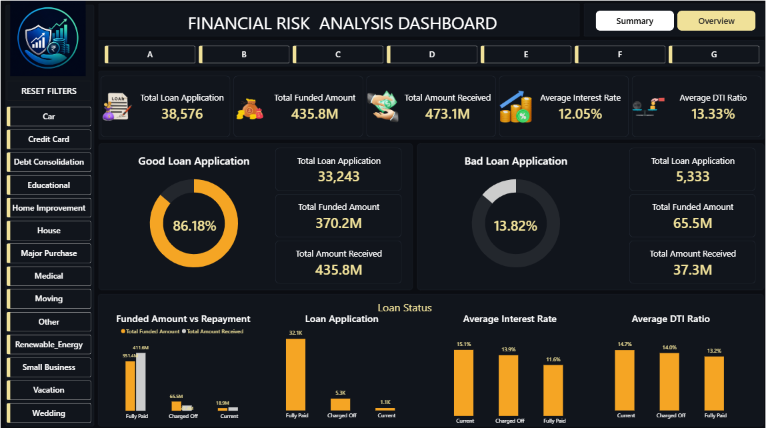

What the dashboard file says about the page in this screenshot:
{"tool":"powerbi","page":{"name":"Summary","canvas":[1920,1080],"ordinal":0},"visuals":[{"type":"cardVisual","fields":{"Data":["financial_loan.Total Loan Application","financial_loan.Total Funded Amount","financial_loan.Total Amount Received","financial_loan.Average Interest Rate","financial_loan.Average DTI Rate"]},"box":[250,187.8,1653.3,153.3],"z":0},{"type":"donutChart","title":"Good Loan Application","fields":{"Category":["financial_loan.Good_vs_Bad_Loan"],"Y":["financial_loan.Total Loan Application"]},"box":[272.9,368.6,421.4,342.9],"z":1000},{"type":"donutChart","title":"Bad Loan Application","fields":{"Category":["financial_loan.Good_vs_Bad_Loan"],"Y":["financial_loan.Total Loan Application"]},"box":[1077.1,368.6,421.4,342.9],"z":2000},{"type":"cardVisual","fields":{"Data":["financial_loan.Good Loan %"]},"box":[394.3,514.3,180,88.6],"z":3000},{"type":"cardVisual","fields":{"Data":["financial_loan.Bad Loan %"]},"box":[1197.1,514.3,180,88.6],"z":4000},{"type":"cardVisual","fields":{"Data":["financial_loan.Total Loan Application","financial_loan.Total Funded Amount","financial_loan.Total Amount Received"],"Rows":["financial_loan.Good_vs_Bad_Loan"]},"box":[651.4,368.6,350,342.9],"z":5000},{"type":"cardVisual","fields":{"Data":["financial_loan.Total Loan Application","financial_loan.Total Funded Amount","financial_loan.Total Amount Received"],"Rows":["financial_loan.Good_vs_Bad_Loan"]},"box":[1538.6,368.6,350,342.9],"z":6000},{"type":"clusteredColumnChart","title":"Funded Amount vs Repayment","fields":{"Category":["financial_loan.LOAN_STATUS"],"Y":["financial_loan.Total Funded Amount","financial_loan.Total Amount Received"]},"box":[250,761.4,412.9,305.7],"z":7000},{"type":"clusteredColumnChart","title":"Loan Application","fields":{"Category":["financial_loan.LOAN_STATUS"],"Y":["financial_loan.Total Loan Application"]},"box":[651.2,761.2,401.2,305],"z":8000},{"type":"textbox","box":[941.2,747.5,222.5,112.5],"z":9000},{"type":"clusteredColumnChart","title":"Average Interest Rate","fields":{"Category":["financial_loan.LOAN_STATUS"],"Y":["financial_loan.Average Interest Rate"]},"box":[1072.9,761.4,401.4,318.6],"z":10000},{"type":"clusteredColumnChart","title":"Average DTI Ratio","fields":{"Category":["financial_loan.LOAN_STATUS"],"Y":["financial_loan.Average DTI Ratio"]},"box":[1473.8,761.2,401.2,305],"z":11000},{"type":"advancedSlicerVisual","fields":{"Values":["financial_loan.PURPOSE"]},"box":[14.3,264.3,211.4,802.9],"z":13000},{"type":"advancedSlicerVisual","fields":{"Values":["financial_loan.GRADE"]},"box":[260,113,1643,44],"z":14000},{"type":"actionButton","box":[14.3,200,211.4,50],"z":15000},{"type":"textbox","box":[250,24.3,1197.1,68.6],"z":16000},{"type":"pageNavigator","box":[1488.6,24.3,400,50],"z":17000},{"type":"image","box":[13.6,0,211.2,188.5],"z":17001}]}

Visuals, with their boxes in screenshot pixels (x1, y1, x2, y2), scaled from the page's 1920x1080 canvas onto the 766x429 screenshot:
cardVisual - financial_loan.Total Loan Application x financial_loan.Total Funded Amount: {"x1": 100, "y1": 75, "x2": 759, "y2": 135}
"Good Loan Application" donutChart: {"x1": 109, "y1": 146, "x2": 277, "y2": 283}
"Bad Loan Application" donutChart: {"x1": 430, "y1": 146, "x2": 598, "y2": 283}
cardVisual - financial_loan.Good Loan %: {"x1": 157, "y1": 204, "x2": 229, "y2": 239}
cardVisual - financial_loan.Bad Loan %: {"x1": 478, "y1": 204, "x2": 549, "y2": 239}
cardVisual - financial_loan.Total Loan Application x financial_loan.Total Funded Amount: {"x1": 260, "y1": 146, "x2": 400, "y2": 283}
cardVisual - financial_loan.Total Loan Application x financial_loan.Total Funded Amount: {"x1": 614, "y1": 146, "x2": 753, "y2": 283}
"Funded Amount vs Repayment" clusteredColumnChart: {"x1": 100, "y1": 302, "x2": 264, "y2": 424}
"Loan Application" clusteredColumnChart: {"x1": 260, "y1": 302, "x2": 420, "y2": 424}
textbox: {"x1": 375, "y1": 297, "x2": 464, "y2": 342}
"Average Interest Rate" clusteredColumnChart: {"x1": 428, "y1": 302, "x2": 588, "y2": 428}
"Average DTI Ratio" clusteredColumnChart: {"x1": 588, "y1": 302, "x2": 748, "y2": 424}
advancedSlicerVisual - financial_loan.PURPOSE: {"x1": 6, "y1": 105, "x2": 90, "y2": 424}
advancedSlicerVisual - financial_loan.GRADE: {"x1": 104, "y1": 45, "x2": 759, "y2": 62}
actionButton: {"x1": 6, "y1": 79, "x2": 90, "y2": 99}
textbox: {"x1": 100, "y1": 10, "x2": 577, "y2": 37}
pageNavigator: {"x1": 594, "y1": 10, "x2": 753, "y2": 30}
image: {"x1": 5, "y1": 0, "x2": 90, "y2": 75}
